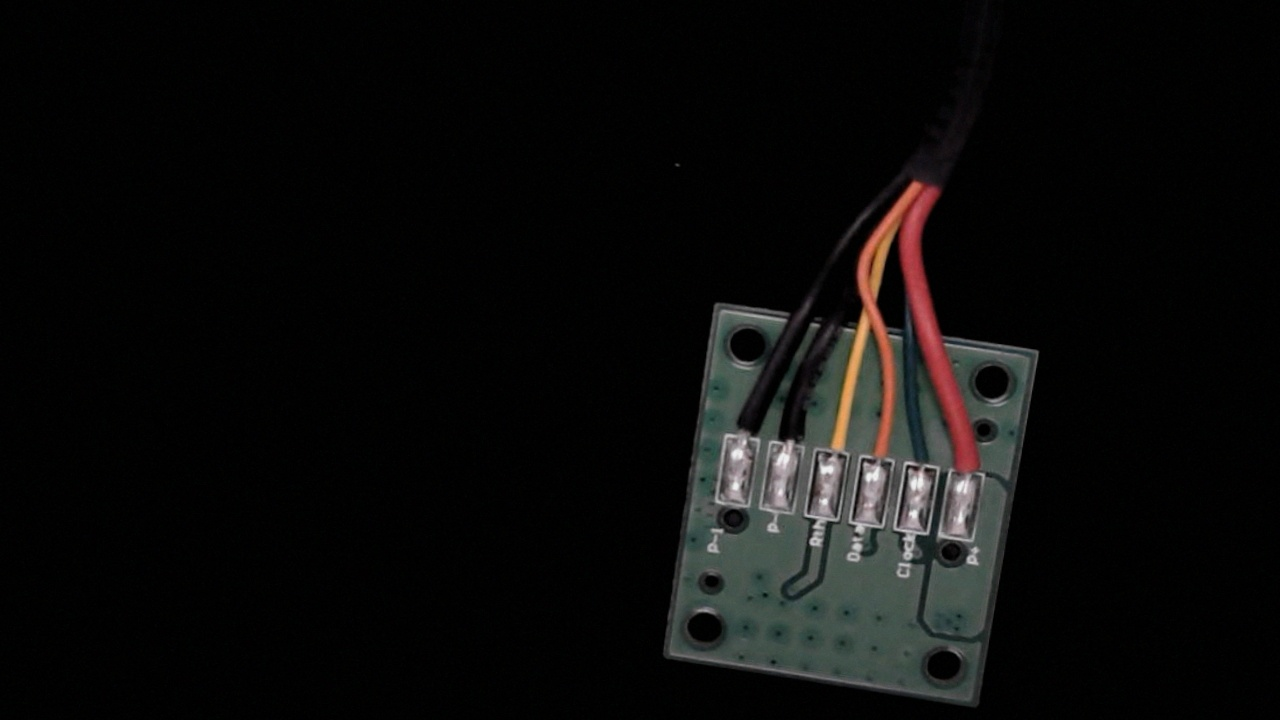Black: (767, 388, 814, 466)
Black1: (722, 388, 766, 459)
Green: (904, 415, 950, 487)
Orange: (860, 407, 904, 480)
Red: (946, 409, 995, 490)
Yellow: (813, 393, 858, 475)
